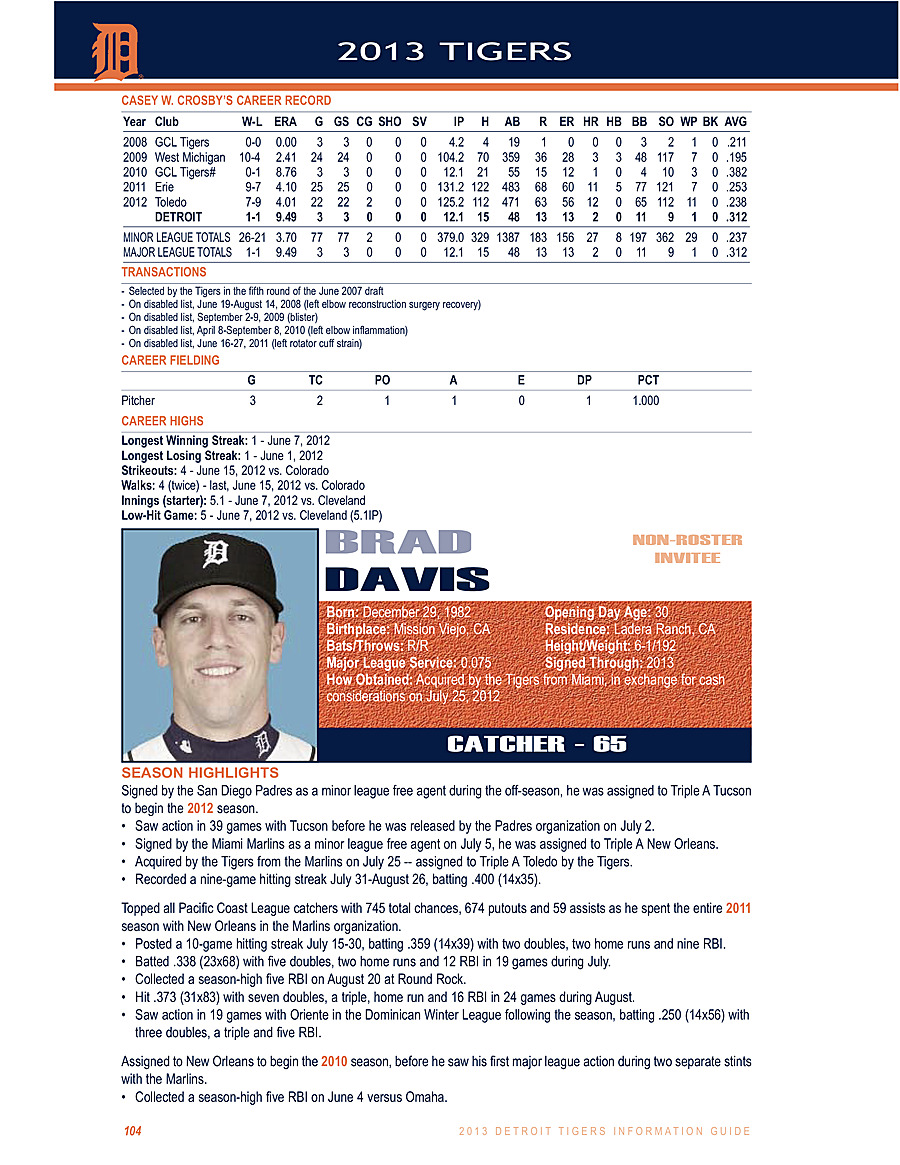figure: (123, 531, 315, 761)
list: (113, 899, 759, 1050), (110, 782, 761, 895), (321, 602, 736, 716), (111, 431, 391, 531), (111, 289, 487, 349), (113, 1089, 459, 1112)
section: (317, 525, 504, 597), (329, 34, 589, 66), (425, 725, 644, 761), (625, 525, 755, 570), (111, 91, 346, 111), (108, 763, 285, 782), (113, 347, 225, 372), (113, 264, 215, 287)
table: (117, 110, 761, 257), (113, 372, 772, 415)
text: (110, 1050, 761, 1088)
